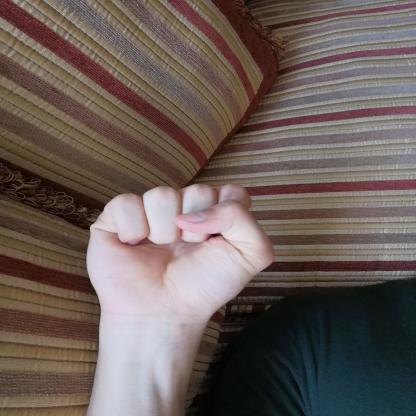SAD: (68, 172, 288, 345)
